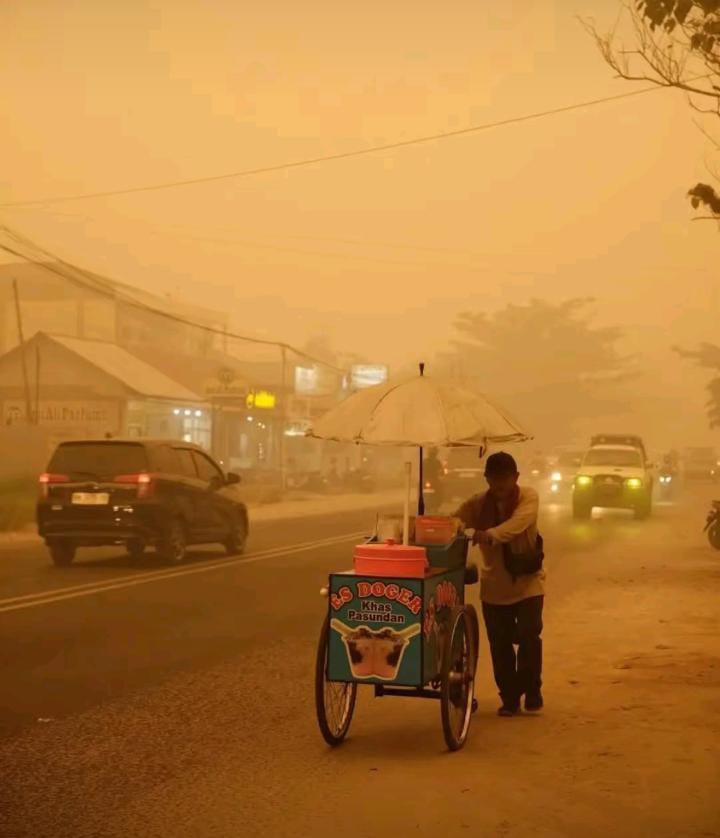Deteksi-Objek-Citra-Berasap: (0, 0, 720, 838)
Gedung: (0, 260, 331, 406), (0, 330, 292, 491)
Kendaraan: (315, 512, 483, 754), (34, 438, 251, 570), (570, 434, 655, 522), (416, 443, 485, 521), (704, 499, 720, 554)
Manusia: (452, 452, 546, 718)
Vegetasi: (451, 296, 620, 445), (574, 0, 720, 133), (683, 181, 720, 234)
